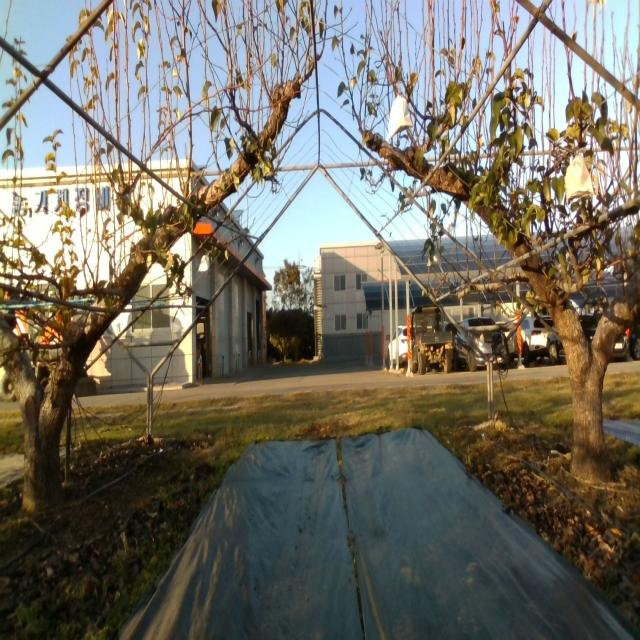pearbags: (564, 153, 594, 207), (386, 86, 414, 140), (426, 247, 442, 269), (198, 252, 210, 272)
